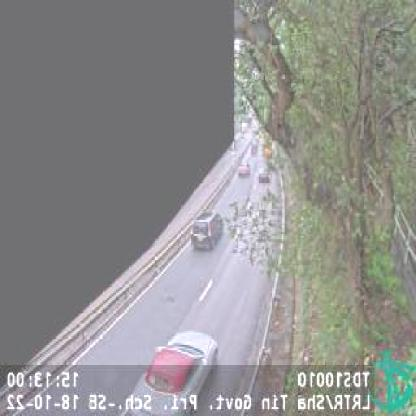Car: (121, 329, 220, 414), (192, 211, 224, 252), (256, 166, 272, 184), (236, 162, 251, 179)
